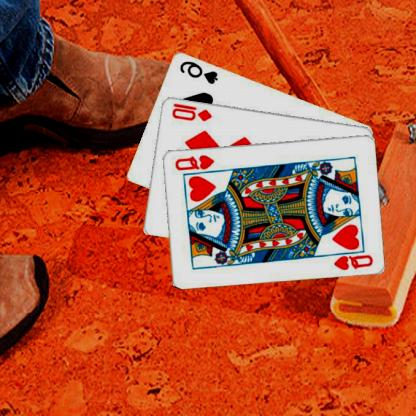10D: (171, 100, 214, 122)
6S: (178, 58, 221, 85)
QH: (326, 246, 376, 270), (174, 152, 216, 171)
